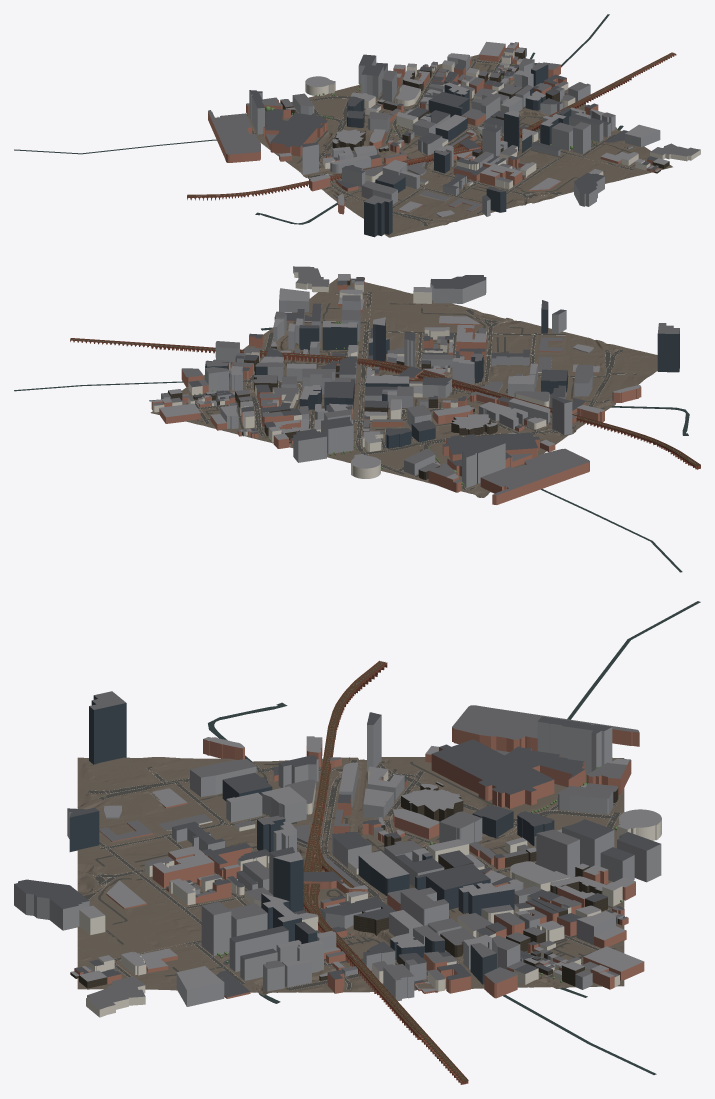
File: mo_barclay_surroundings.glb
3 renders of one model, top to bottom at view 1: azimuth 30°, elevation 25°; view 2: azimuth 150°, elevation 25°; view 3: azimuth 270°, elevation 25°, orthographic. The views are drawn at different scales.
Parts seen in each view (by area): view 1: Terrain_EA_DTM, bldg_23112318, bldg_27930260, bldg_682060630, bldg_136506119, bldg_738799442, bldg_378959095, bldg_26508327, bldg_151751118, bldg_990174132, bldg_27930204, bldg_705574569 (+22 smaller); view 2: Terrain_EA_DTM, bldg_27930260, bldg_23112318, bldg_27930204, bldg_136506119, bldg_682060630, bldg_378959095, bldg_387033351, bldg_796971147, bldg_165386099, bldg_26508327, bldg_647033648 (+20 smaller); view 3: Terrain_EA_DTM, bldg_23112318, bldg_27930260, bldg_27930204, bldg_136506119, bldg_682060630, bldg_639819668, bldg_738799442, bldg_151751118, bldg_165386099, bldg_705574569, bldg_26508327 (+41 smaller).
Part boxes in pixels (left/top/right/bottom): Terrain_EA_DTM: left=246, top=48, right=672, bottom=237; bldg_23112318: left=263, top=109, right=327, bottom=156; bldg_27930260: left=208, top=110, right=260, bottom=162; bldg_682060630: left=364, top=195, right=392, bottom=237; bldg_136506119: left=574, top=173, right=604, bottom=206; bldg_738799442: left=428, top=91, right=469, bottom=117; bldg_378959095: left=361, top=65, right=383, bottom=98; bldg_26508327: left=650, top=143, right=700, bottom=161; bldg_151751118: left=480, top=164, right=522, bottom=185; bldg_990174132: left=625, top=124, right=660, bottom=146; bldg_27930204: left=249, top=90, right=264, bottom=134; bldg_705574569: left=435, top=114, right=467, bottom=141; Terrain_EA_DTM: left=150, top=278, right=657, bottom=497; bldg_27930260: left=492, top=448, right=589, bottom=504; bldg_23112318: left=442, top=432, right=539, bottom=476; bldg_27930204: left=462, top=440, right=505, bottom=488; bldg_136506119: left=430, top=275, right=486, bottom=303; bldg_682060630: left=657, top=323, right=679, bottom=372; bldg_378959095: left=321, top=416, right=353, bottom=453; bldg_387033351: left=293, top=431, right=326, bottom=462; bldg_796971147: left=322, top=321, right=357, bottom=350; bldg_165386099: left=451, top=414, right=497, bottom=435; bldg_26508327: left=293, top=266, right=329, bottom=292; bldg_647033648: left=552, top=396, right=572, bottom=435; Terrain_EA_DTM: left=77, top=757, right=624, bottom=995; bldg_23112318: left=431, top=739, right=585, bottom=808; bldg_27930260: left=452, top=705, right=639, bottom=751; bldg_27930204: left=537, top=716, right=612, bottom=773; bldg_136506119: left=14, top=879, right=89, bottom=930; bldg_682060630: left=89, top=691, right=126, bottom=764; bldg_639819668: left=536, top=829, right=579, bottom=877; bldg_738799442: left=415, top=863, right=490, bottom=909; bldg_151751118: left=152, top=846, right=214, bottom=887; bldg_165386099: left=401, top=784, right=463, bottom=821; bldg_705574569: left=358, top=851, right=409, bottom=895; bldg_26508327: left=86, top=976, right=145, bottom=1017.
Bounding box in the file's own units: 1704 × 97.82 × 1015.
Materials: 21 (5 with a texture image).
